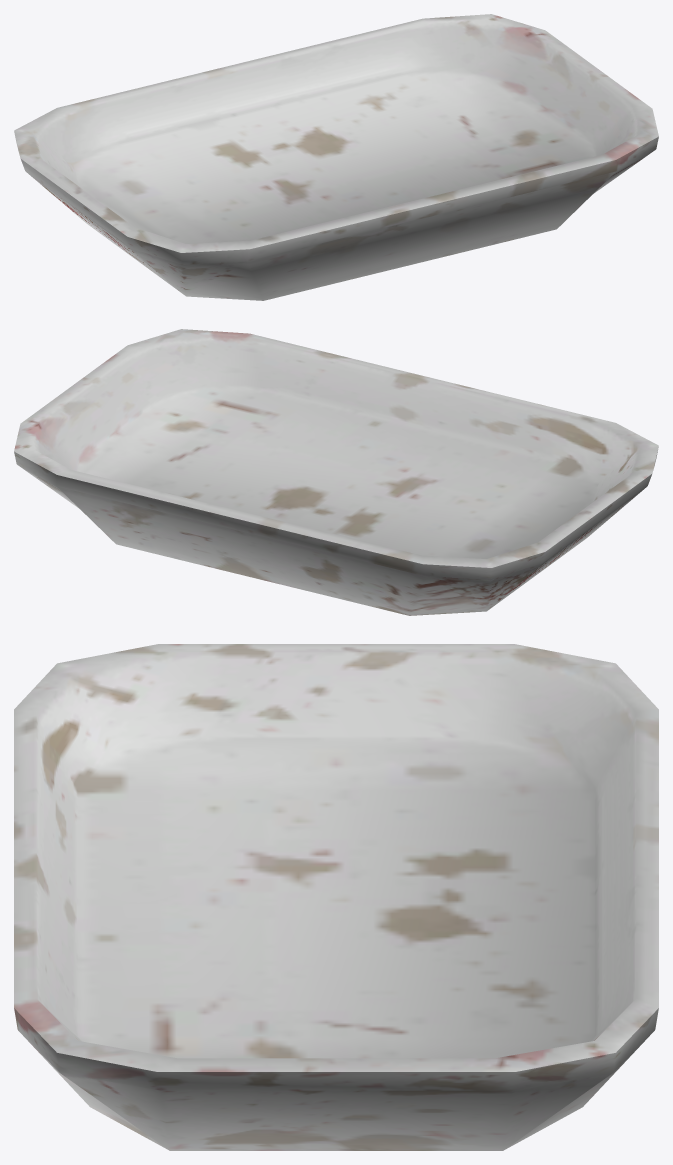
The model's file is SM_TrashScrapPlate_01_B.fbx.
3 renders of one model, top to bottom at view 1: azimuth 30°, elevation 25°; view 2: azimuth 150°, elevation 25°; view 3: azimuth 270°, elevation 25°, orthographic. The views are drawn at different scales.
Parts seen in each view (by area): view 1: SM_TrashScrapPlate_01_B; view 2: SM_TrashScrapPlate_01_B; view 3: SM_TrashScrapPlate_01_B.
Part boxes in pixels (x1=…): SM_TrashScrapPlate_01_B: x1=14, y1=14, x2=658, y2=300; SM_TrashScrapPlate_01_B: x1=14, y1=329, x2=658, y2=615; SM_TrashScrapPlate_01_B: x1=14, y1=644, x2=658, y2=1150.
Bounding box in the file's own units: 32.62 × 20.78 × 4.7.
1 material, 1 textured.
